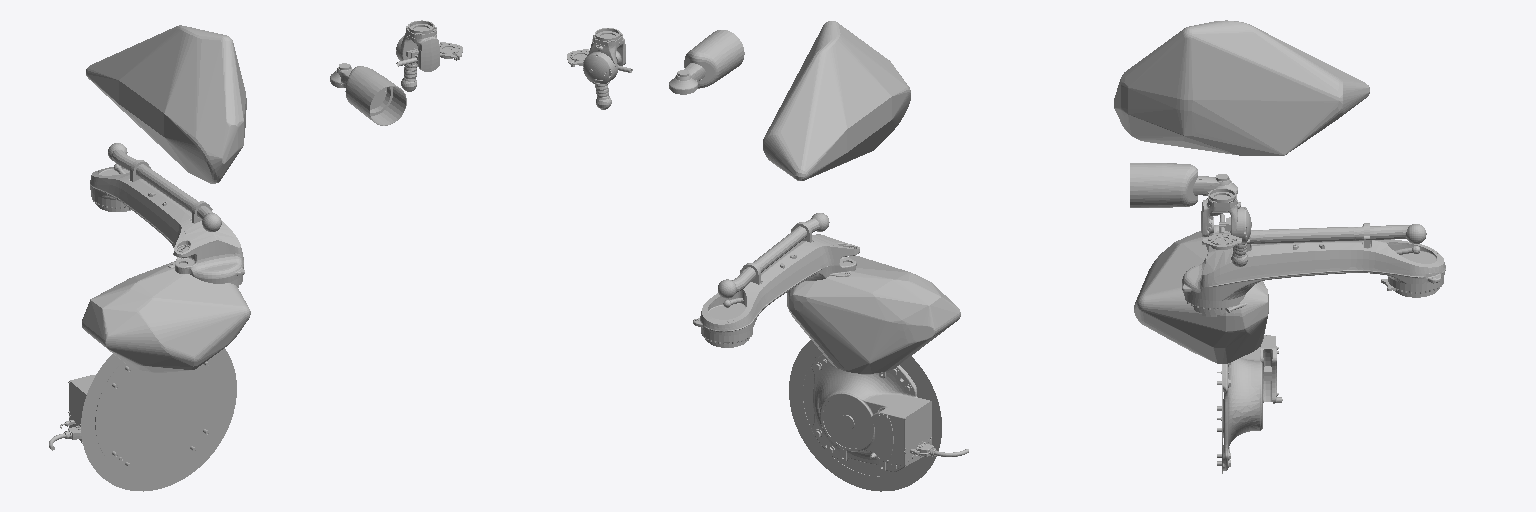
URDF robot description (kuka_kr210):
<?xml version="1.0" ?>
<!-- =================================================================================== -->
<!-- |    This document was autogenerated by xacro from kr210r2700.xacro                | -->
<!-- |    EDITING THIS FILE BY HAND IS NOT RECOMMENDED                                 | -->
<!-- =================================================================================== -->
<!--Generates a urdf from the macro in kr210_macro.xacro -->
<robot name="kuka_kr210" xmlns:xacro="http://wiki.ros.org/xacro">
  <link name="base_link">
    <inertial>
      <origin rpy="0 0 0" xyz="-0.027804 0.00039112 0.14035"/>
      <mass value="1572.9"/>
      <inertia ixx="89.282" ixy="-0.47721" ixz="0.85562" iyy="107.51" iyz="0.0067576" izz="172.02"/>
    </inertial>
    <visual>
      <origin rpy="-1.570796327 0 0" xyz="0 0 0"/>
      <geometry>
        <mesh filename="package://kuka_kr210_support/meshes/kr210r2700/visual/base_link.stl"/>
      </geometry>
      <material name="">
        <color rgba="0.75294 0.75294 0.75294 1"/>
      </material>
    </visual>
    <collision>
      <origin rpy="-1.570796327 0 0" xyz="0 0 0"/>
      <geometry>
        <mesh filename="package://kuka_kr210_support/meshes/kr210r2700/collision/base_link.stl"/>
      </geometry>
    </collision>
  </link>
  <link name="link_1">
    <inertial>
      <origin rpy="0 0 0" xyz="-0.036811 -0.024697 0.56577"/>
      <mass value="1385.5"/>
      <inertia ixx="90.873" ixy="33.809" ixz="17.159" iyy="147.03" iyz="0.063634" izz="168.19"/>
    </inertial>
    <visual>
      <origin rpy="0 0 0" xyz="0 0 0"/>
      <geometry>
        <mesh filename="package://kuka_kr210_support/meshes/kr210r2700/visual/link_1.stl"/>
      </geometry>
      <material name="">
        <color rgba="0.75294 0.75294 0.75294 1"/>
      </material>
    </visual>
    <collision>
      <origin rpy="0 0 0" xyz="0 0 0"/>
      <geometry>
        <mesh filename="package://kuka_kr210_support/meshes/kr210r2700/collision/link_1.stl"/>
      </geometry>
    </collision>
  </link>
  <link name="link_2">
    <inertial>
      <origin rpy="0 0 0" xyz="0.016923 -0.19196 0.44751"/>
      <mass value="958.62"/>
      <inertia ixx="180.42" ixy="-0.83462" ixz="0.32549" iyy="177.68" iyz="-20.82" izz="20.495"/>
    </inertial>
    <visual>
      <origin rpy="-1.570796327 0 0" xyz="0 0 0"/>
      <geometry>
        <mesh filename="package://kuka_kr210_support/meshes/kr210r2700/visual/link_2.stl"/>
      </geometry>
      <material name="">
        <color rgba="0.75294 0.75294 0.75294 1"/>
      </material>
    </visual>
    <collision>
      <origin rpy="0 0 0" xyz="0 0 0"/>
      <geometry>
        <mesh filename="package://kuka_kr210_support/meshes/kr210r2700/collision/link_2.stl"/>
      </geometry>
    </collision>
  </link>
  <link name="link_3">
    <inertial>
      <origin rpy="0 0 0" xyz="0.18842 0.18344 -0.042799"/>
      <mass value="710.03"/>
      <inertia ixx="11.887" ixy="-0.12154" ixz="-1.3604" iyy="98.805" iyz="-0.056505" izz="96.251"/>
    </inertial>
    <visual>
      <origin rpy="-1.570796327 0 0" xyz="0 0 0"/>
      <geometry>
        <mesh filename="package://kuka_kr210_support/meshes/kr210r2700/visual/link_3.stl"/>
      </geometry>
      <material name="">
        <color rgba="0.75294 0.75294 0.75294 1"/>
      </material>
    </visual>
    <collision>
      <origin rpy="0 0 0" xyz="0 0 0"/>
      <geometry>
        <mesh filename="package://kuka_kr210_support/meshes/kr210r2700/collision/link_3.stl"/>
      </geometry>
    </collision>
  </link>
  <link name="link_4">
    <inertial>
      <origin rpy="0 0 0" xyz="0.27146 -0.007326 5.2775E-05"/>
      <mass value="173.73"/>
      <inertia ixx="1.8001" ixy="-0.18515" ixz="0.00051232" iyy="5.514" iyz="0.00070469" izz="6.3498"/>
    </inertial>
    <visual>
      <origin rpy="-1.570796327 0 0" xyz="0 0 0"/>
      <geometry>
        <mesh filename="package://kuka_kr210_support/meshes/kr210r2700/visual/link_4.stl"/>
      </geometry>
      <material name="">
        <color rgba="0.75294 0.75294 0.75294 1"/>
      </material>
    </visual>
    <collision>
      <origin rpy="0 0 0" xyz="0 0 0"/>
      <geometry>
        <mesh filename="package://kuka_kr210_support/meshes/kr210r2700/collision/link_4.stl"/>
      </geometry>
    </collision>
  </link>
  <link name="link_5">
    <inertial>
      <origin rpy="0 0 0" xyz="0.04379 0.025984 3.5491E-07"/>
      <mass value="72.17"/>
      <inertia ixx="0.3938" ixy="-0.085332" ixz="1.7223E-06" iyy="0.68945" iyz="-7.0292E-06" izz="0.67292"/>
    </inertial>
    <visual>
      <origin rpy="-1.570796327 0 0" xyz="0 0 0"/>
      <geometry>
        <mesh filename="package://kuka_kr210_support/meshes/kr210r2700/visual/link_5.stl"/>
      </geometry>
      <material name="">
        <color rgba="0.75294 0.75294 0.75294 1"/>
      </material>
    </visual>
    <collision>
      <origin rpy="0 0 0" xyz="0 0 0"/>
      <geometry>
        <mesh filename="package://kuka_kr210_support/meshes/kr210r2700/collision/link_5.stl"/>
      </geometry>
    </collision>
  </link>
  <link name="link_6">
    <inertial>
      <origin rpy="0 0 0" xyz="-0.017956 -1.5237E-05 0.00015484"/>
      <mass value="6.3154"/>
      <inertia ixx="0.031746" ixy="1.7673E-07" ixz="-6.6558E-06" iyy="0.016686" iyz="1.4304E-07" izz="0.016723"/>
    </inertial>
    <visual>
      <origin rpy="0 0 0" xyz="0 0 0"/>
      <geometry>
        <mesh filename="package://kuka_kr210_support/meshes/kr210r2700/visual/link_6.stl"/>
      </geometry>
      <material name="">
        <color rgba="0.75294 0.75294 0.75294 1"/>
      </material>
    </visual>
    <collision>
      <origin rpy="0 0 0" xyz="0 0 0"/>
      <geometry>
        <mesh filename="package://kuka_kr210_support/meshes/kr210r2700/collision/link_6.stl"/>
      </geometry>
    </collision>
  </link>
  <link name="tool0"/>
  <joint name="joint_a1" type="revolute">
    <origin rpy="0 0 0" xyz="-0.00262 0.00097586 0.33099"/>
    <parent link="base_link"/>
    <child link="link_1"/>
    <axis xyz="0 0 1"/>
    <limit effort="0" lower="-3.228859205" upper="3.228859205" velocity="2.146755039"/>
  </joint>
  <joint name="joint_a2" type="revolute">
    <origin rpy="0 0 0" xyz="0.35277 -0.037476 0.4192"/>
    <parent link="link_1"/>
    <child link="link_2"/>
    <axis xyz="0 1 0"/>
    <limit effort="0" lower="-0.785398185" upper="1.483529905" velocity="2.007128695"/>
  </joint>
  <joint name="joint_a3" type="revolute">
    <origin rpy="0 0 0" xyz="-9.8483E-05 -0.1475 1.2499"/>
    <parent link="link_2"/>
    <child link="link_3"/>
    <axis xyz="0 1 0"/>
    <limit effort="0" lower="-3.66519153" upper="1.134464045" velocity="1.954768816"/>
  </joint>
  <joint name="joint_a4" type="revolute">
    <origin rpy="0 0 0" xyz="0.95795 0.184 -0.055059"/>
    <parent link="link_3"/>
    <child link="link_4"/>
    <axis xyz="1 0 0"/>
    <limit effort="0" lower="-6.10865255" upper="6.10865255" velocity="3.124139447"/>
  </joint>
  <joint name="joint_a5" type="revolute">
    <origin rpy="0 0 0" xyz="0.542 0 0"/>
    <parent link="link_4"/>
    <child link="link_5"/>
    <axis xyz="0 1 0"/>
    <limit effort="0" lower="-2.181661625" upper="2.181661625" velocity="3.001966396"/>
  </joint>
  <joint name="joint_a6" type="revolute">
    <origin rpy="0 0 0" xyz="0.1925 0 0"/>
    <parent link="link_5"/>
    <child link="link_6"/>
    <axis xyz="1 0 0"/>
    <limit effort="0" lower="-6.10865255" upper="6.10865255" velocity="3.822271167"/>
  </joint>
  <joint name="link_6-tool0" type="fixed">
    <parent link="link_6"/>
    <child link="tool0"/>
    <origin rpy="0 0 0" xyz="0.0375 0 -0.00023924"/>
  </joint>
  <link name="Link1"/>
  <joint name="Link1-link_1" type="fixed">
    <parent link="link_1"/>
    <child link="Link1"/>
    <origin rpy="0 0 0" xyz="0 0 0"/>
  </joint>
</robot>

--- What the picture shows (computed from the rendered views, not written in the file) ---
Views: 3 orthographic renders of the robot side by side, from view 1: azimuth 30°, elevation 25°; view 2: azimuth 150°, elevation 25°; view 3: azimuth 270°, elevation 25°.
Robot: kuka_kr210 — 9 links, 8 joints (6 revolute, 2 fixed); root link base_link; default pose: all joints at 0.
Visible links, largest first — view 1: base_link, link_3, link_1, link_2, link_4, link_5, link_6; view 2: base_link, link_3, link_1, link_2, link_4, link_5, link_6; view 3: link_3, link_2, link_1, base_link, link_4, link_5, link_6.
Boxes of the visible links, box(x1,y1,x2,y2) form: base_link: box(49, 348, 236, 491); link_3: box(86, 25, 246, 183); link_1: box(82, 261, 250, 372); link_2: box(90, 143, 244, 287); link_4: box(330, 63, 406, 125); link_5: box(396, 20, 439, 71); link_6: box(396, 42, 462, 91); base_link: box(789, 340, 968, 491); link_3: box(763, 21, 910, 180); link_1: box(787, 255, 960, 374); link_2: box(693, 213, 859, 347); link_4: box(669, 30, 744, 94); link_5: box(583, 28, 625, 83); link_6: box(567, 49, 632, 109); link_3: box(1114, 20, 1369, 155); link_2: box(1182, 223, 1445, 316); link_1: box(1134, 231, 1268, 363); base_link: box(1217, 335, 1282, 473); link_4: box(1130, 163, 1237, 207); link_5: box(1201, 188, 1251, 242); link_6: box(1202, 214, 1250, 266).
Size in the robot's own frame: 2.89 by 1.91 by 3.05 metres.
Meshes: 7 distinct files referenced, 7 mesh visuals loaded (7 binary STL).